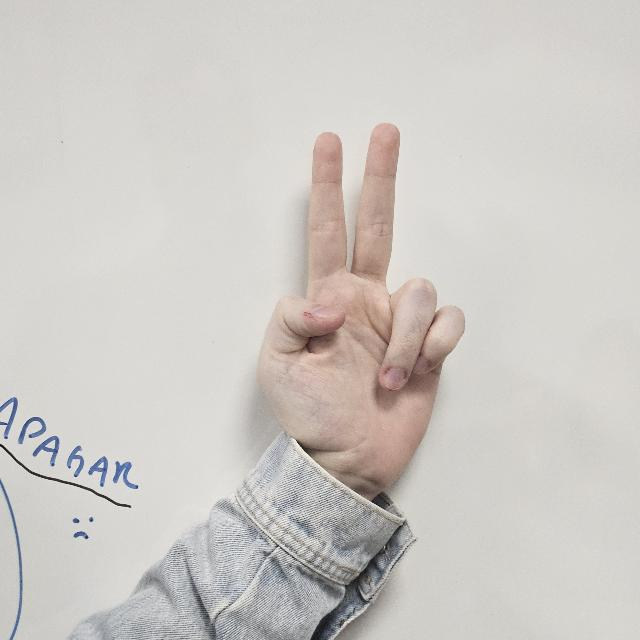Triangulo: (252, 120, 474, 492)
